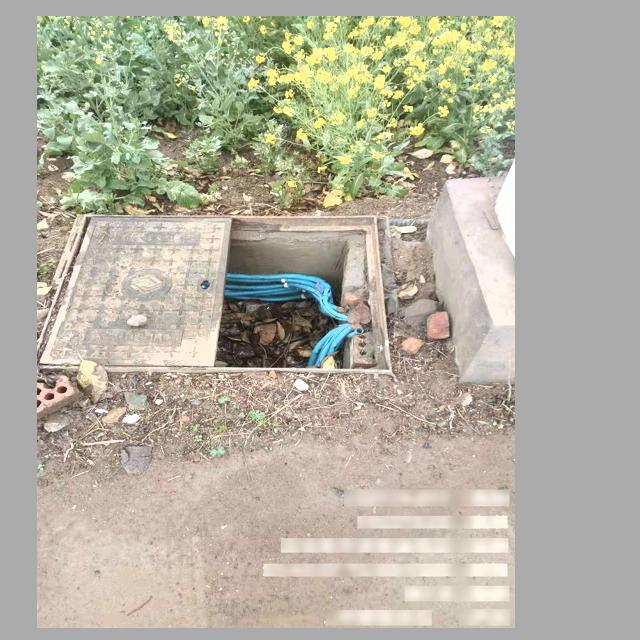lose: (37, 212, 396, 375)
